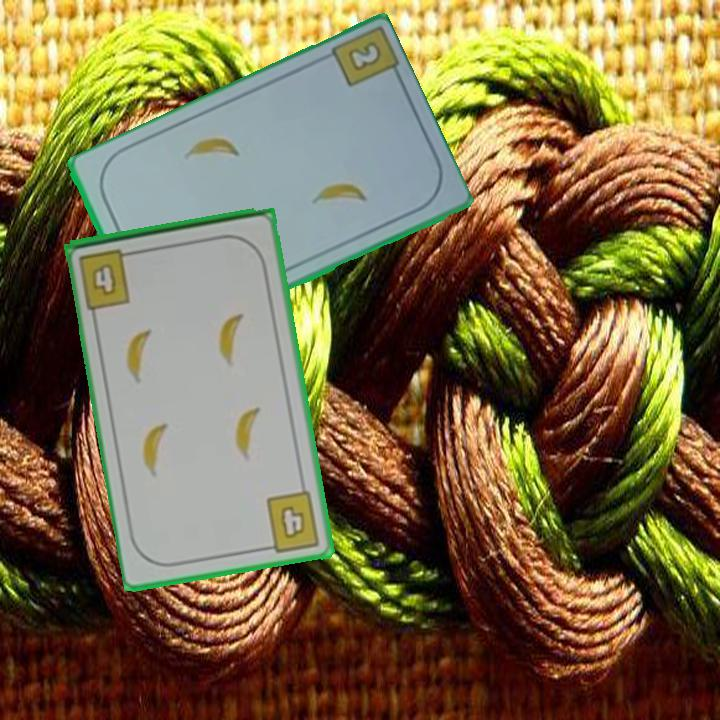2b: (344, 37, 384, 75)
4b: (259, 487, 324, 555), (75, 245, 140, 312)
